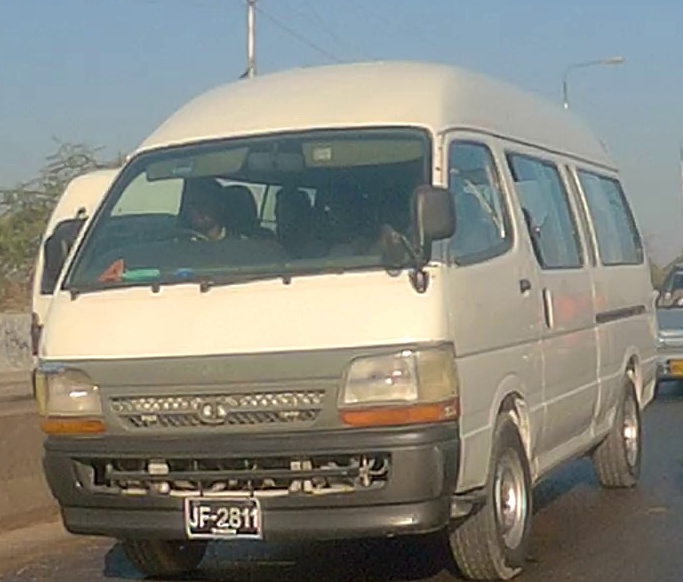van: (33, 58, 659, 582)
